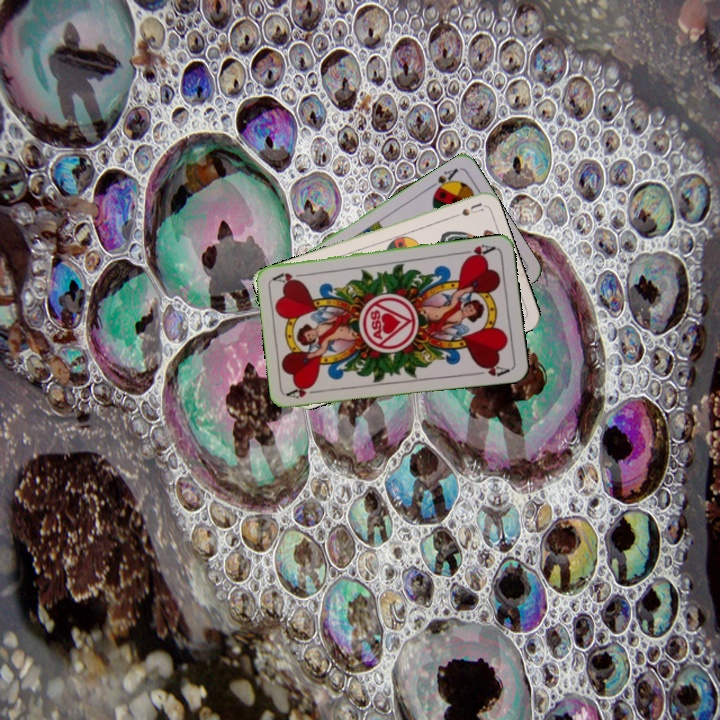HA: (457, 240, 498, 262), (284, 382, 325, 401)
SA: (425, 164, 461, 197)
SU: (445, 198, 485, 221)
